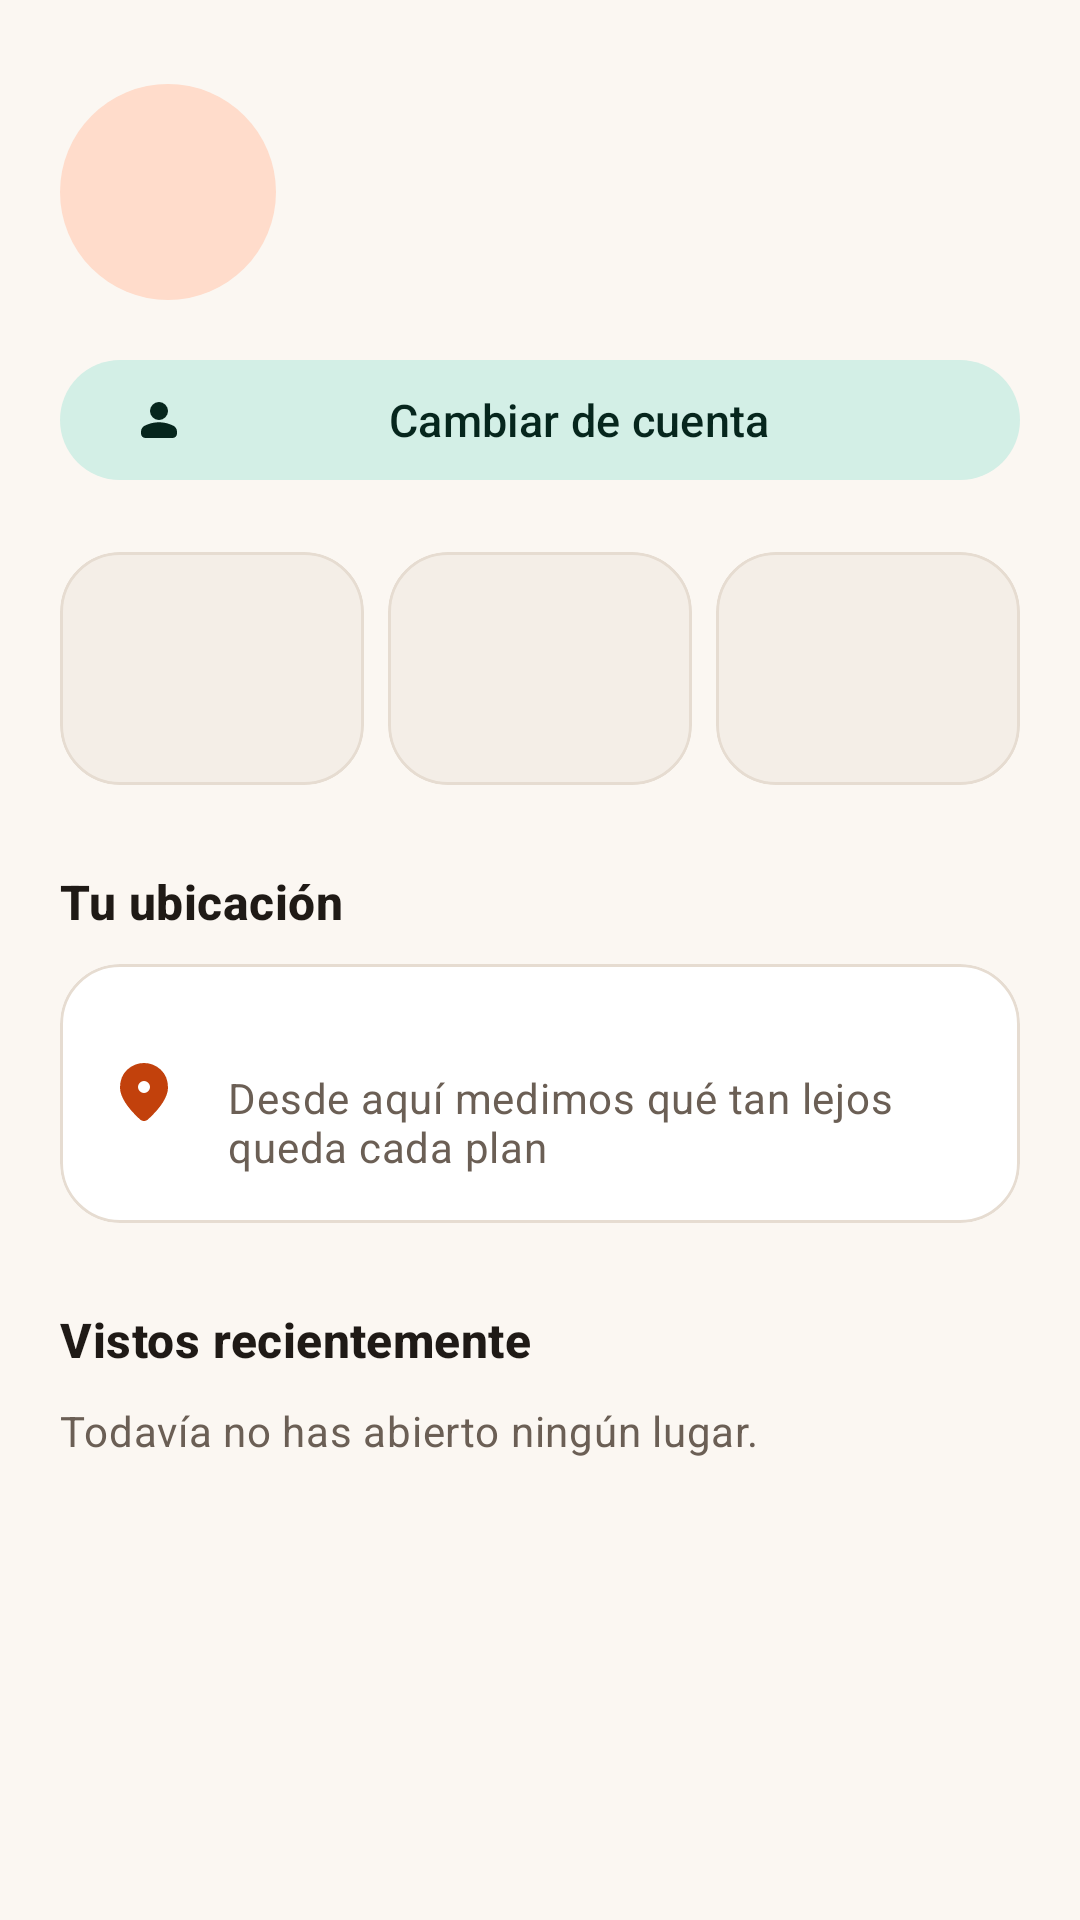

Point at icon controls on the screen. Image size 1080px x 1920px, points as (x,y).
lugar: (144,1092)
